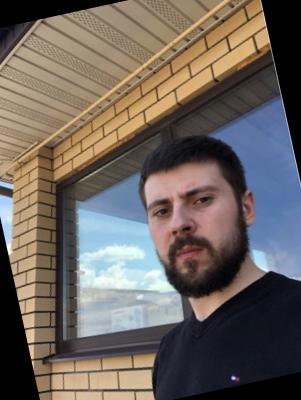without_mask: (138, 169, 258, 307)
